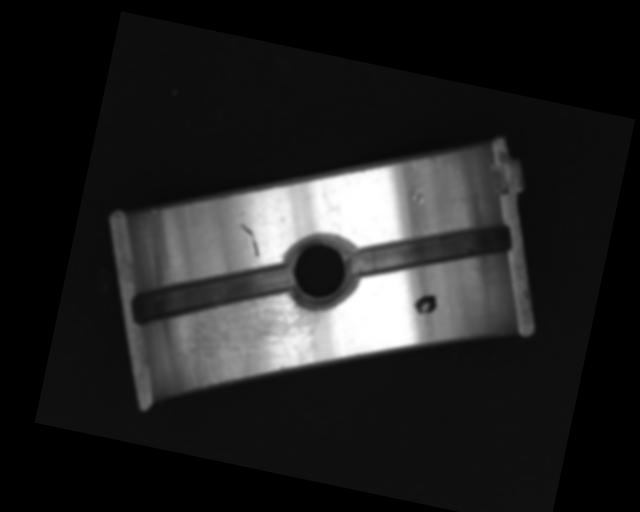blot: (411, 291, 439, 318)
bruise: (403, 179, 432, 207)
gap: (128, 235, 298, 353), (350, 198, 513, 305)
hole: (278, 230, 362, 314)
nick: (232, 222, 265, 259)
scratch: (169, 269, 330, 411)
